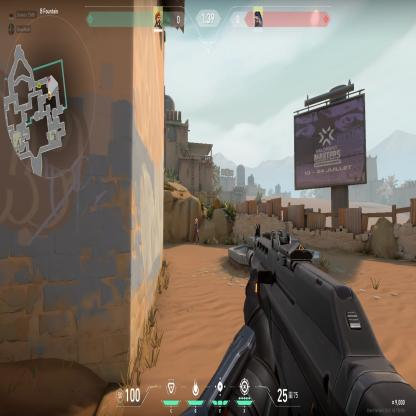enemy: (193, 215, 200, 245)
